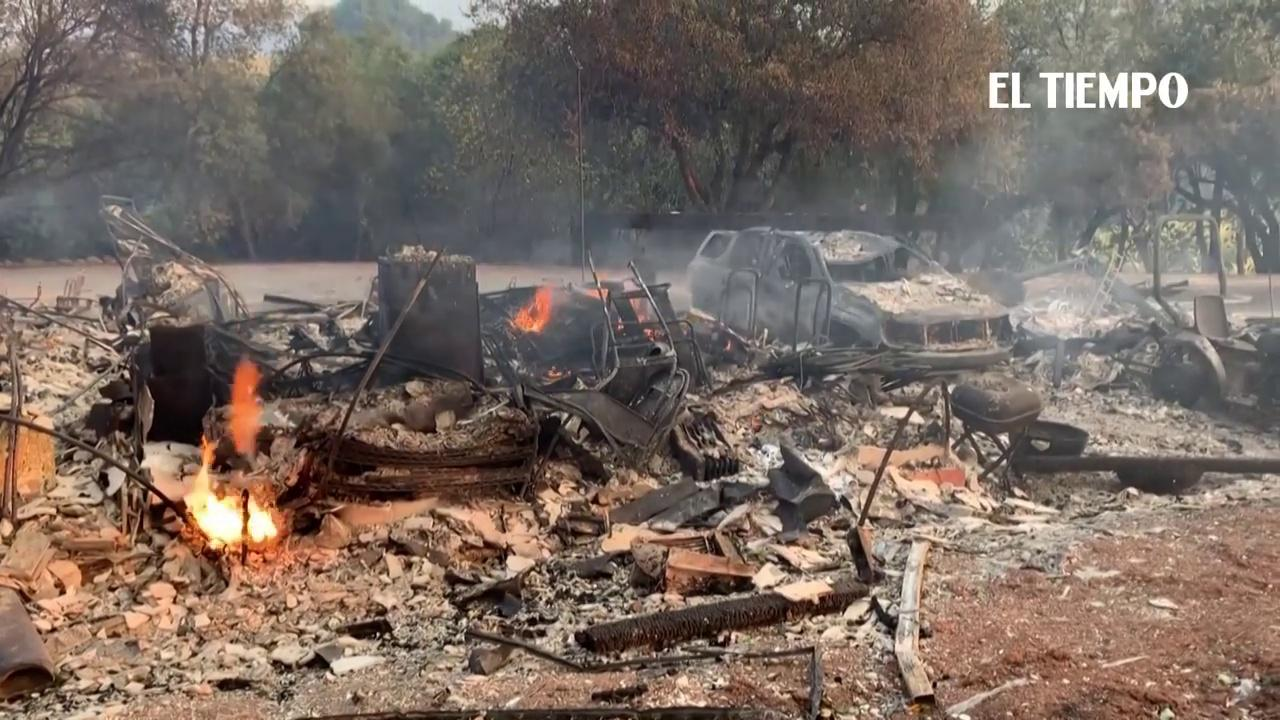Fire: (176, 457, 278, 544), (229, 364, 270, 450), (512, 285, 555, 334)
